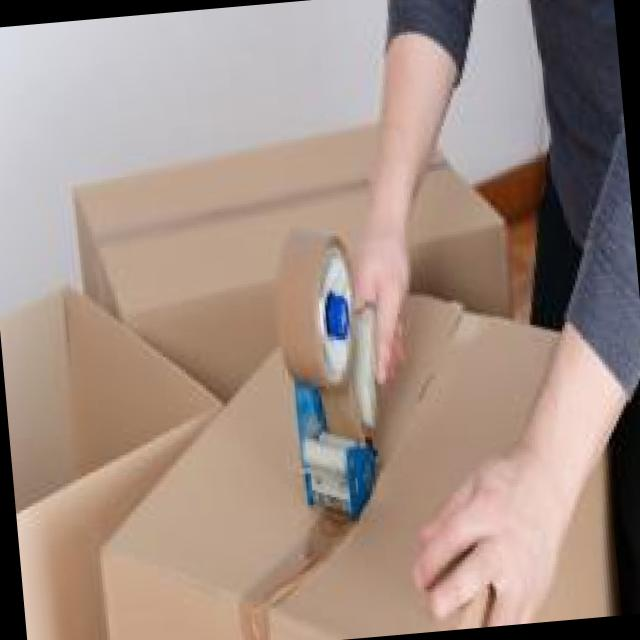box: (116, 137, 528, 532)
